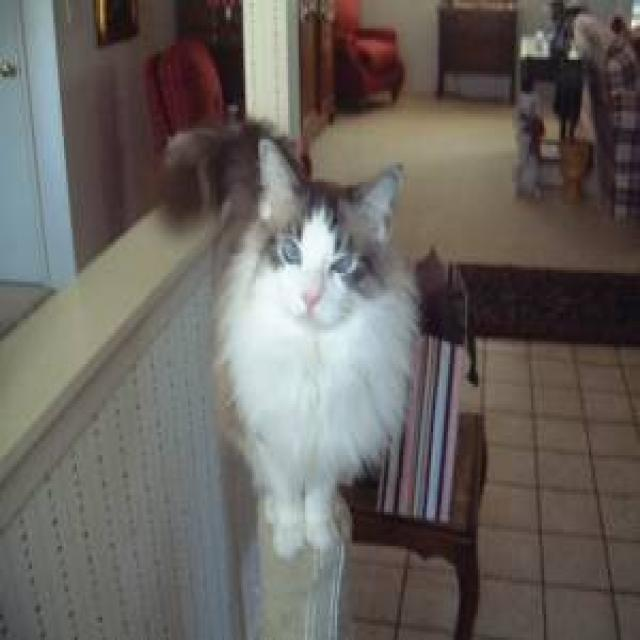Ragdoll: (245, 128, 408, 340)
